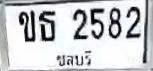2: (125, 5, 140, 38), (72, 8, 87, 39)
5: (89, 7, 103, 39)
8: (107, 6, 121, 38)
A02: (18, 10, 35, 41)
A24: (38, 10, 55, 41)
CBI: (54, 47, 95, 68)
